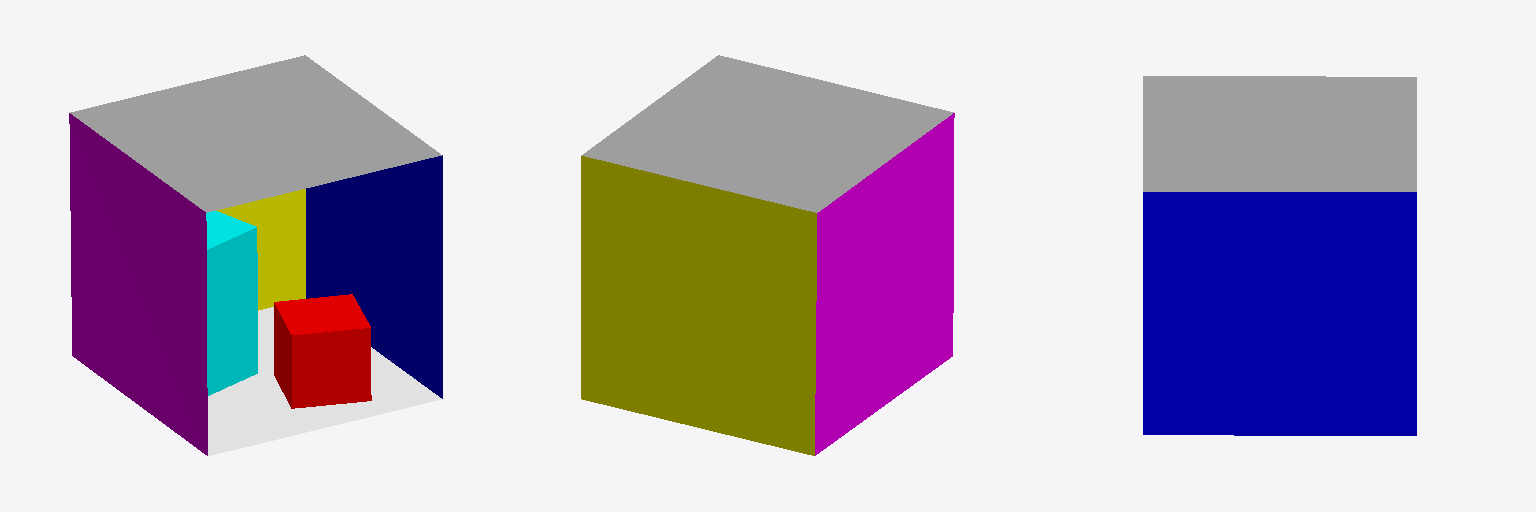
File: textured-cornell-box.obj
The picture shows the model from 3 angles: view 1: azimuth 30°, elevation 25°; view 2: azimuth 150°, elevation 25°; view 3: azimuth 270°, elevation 25°; orthographic projection.
Parts seen in each view (by area): view 1: left_wall, ceiling, right_wall, floor, short_box, tall_box, back_wall; view 2: back_wall, left_wall, ceiling; view 3: right_wall, ceiling.
Boxes of the visible parts, x1,y1,x2,y2 form: left_wall: [69, 113, 207, 455]; ceiling: [70, 55, 441, 212]; right_wall: [306, 155, 442, 398]; floor: [208, 307, 441, 455]; short_box: [274, 294, 371, 408]; tall_box: [206, 211, 257, 395]; back_wall: [216, 189, 305, 310]; back_wall: [581, 156, 816, 455]; left_wall: [815, 113, 954, 455]; ceiling: [581, 55, 953, 212]; right_wall: [1143, 192, 1416, 435]; ceiling: [1143, 76, 1416, 191].
Bounding box in the file's own units: 5.56 × 5.49 × 5.6.